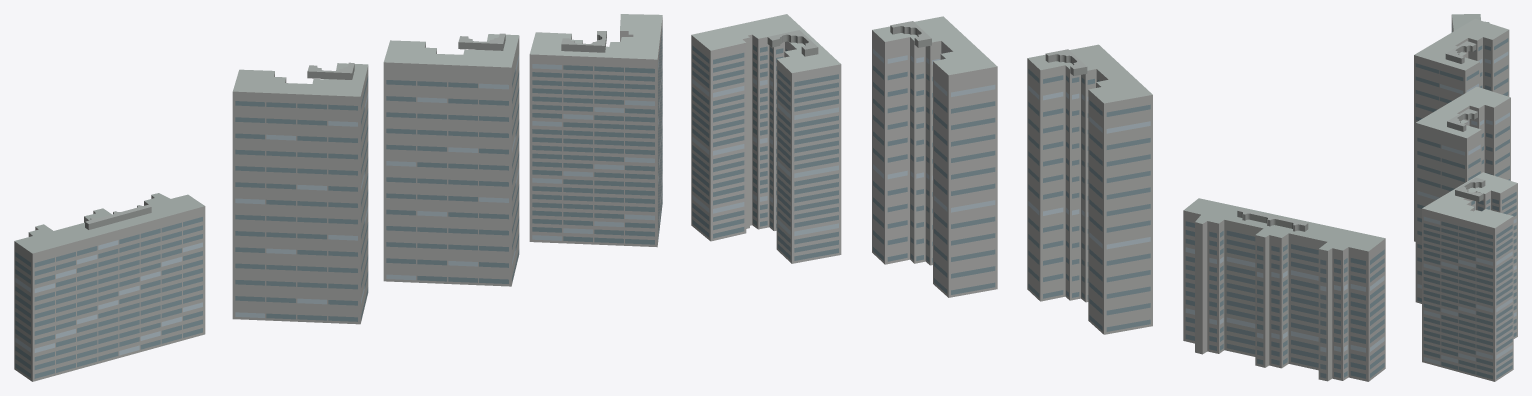
File: apt-a13483604.glb
3 views of the same model, side by side, from view 1: azimuth 30°, elevation 25°; view 2: azimuth 150°, elevation 25°; view 3: azimuth 270°, elevation 25° (orthographic). The views are drawn at different scales.
Parts seen in each view (by area): view 1: apt-a13483604; view 2: apt-a13483604; view 3: apt-a13483604.
Boxes of the visible parts, bbox=[...] form: apt-a13483604: bbox=[14, 14, 662, 381]; apt-a13483604: bbox=[691, 14, 1385, 381]; apt-a13483604: bbox=[1414, 14, 1517, 381].
Size of the model in its own units: 241 by 82 by 40.2.
